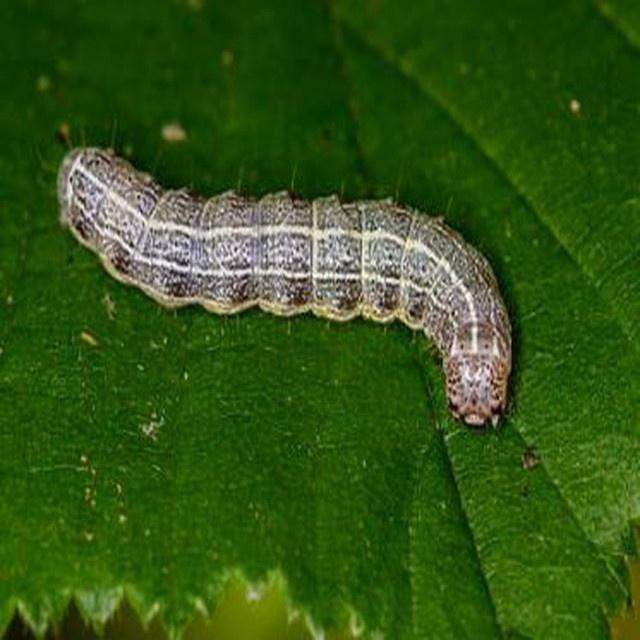gusano_cogollero: (54, 150, 512, 425)
